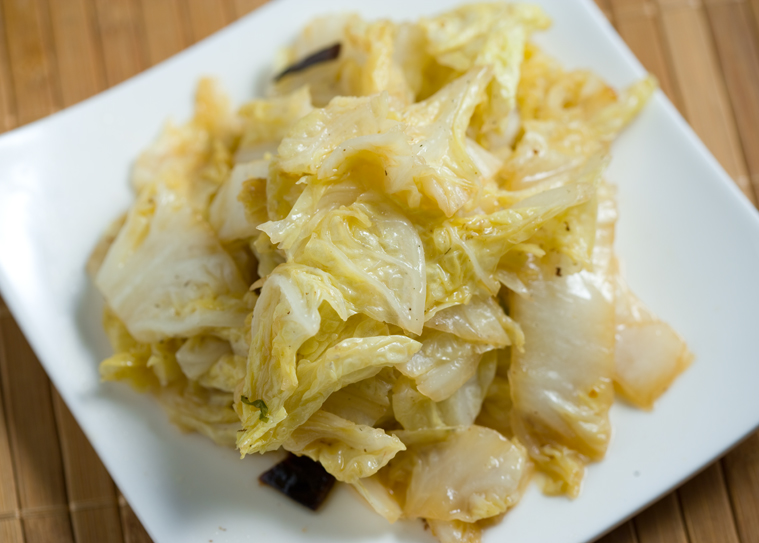chinese_cabbage: (151, 30, 629, 476), (364, 219, 632, 436), (273, 358, 517, 533), (280, 55, 466, 273), (132, 257, 349, 441), (160, 118, 345, 307), (398, 124, 626, 274), (401, 21, 583, 146)
